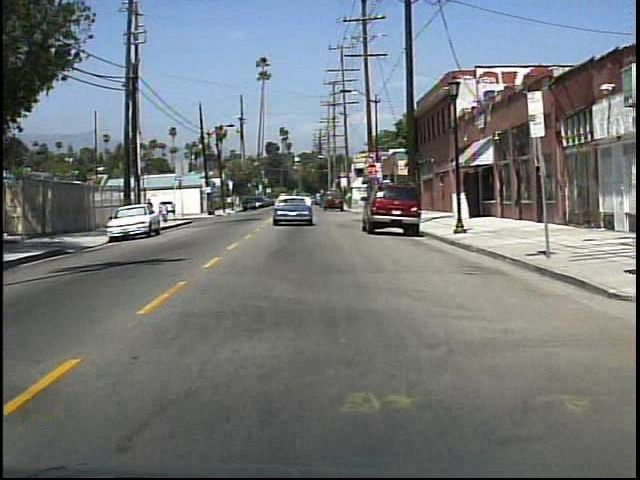person: (143, 196, 157, 227), (161, 199, 171, 225)
